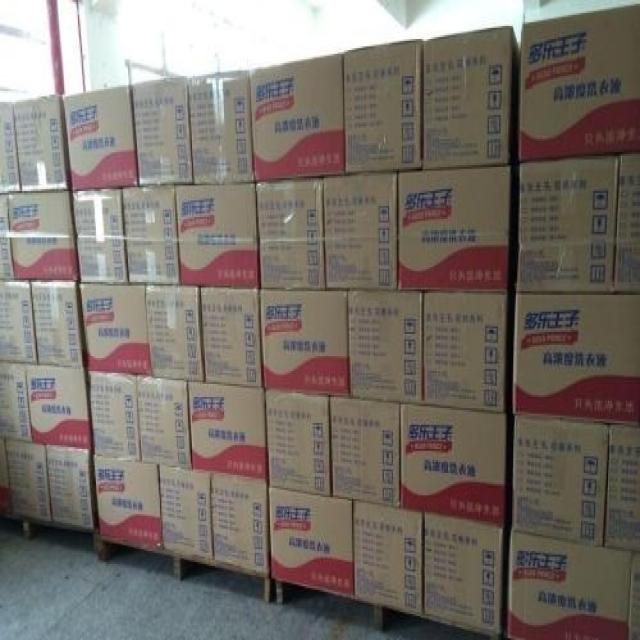box: (518, 2, 640, 161), (513, 291, 640, 427), (397, 165, 511, 295), (517, 156, 620, 295), (422, 28, 520, 171), (507, 531, 631, 640), (512, 414, 611, 549), (401, 404, 507, 527), (248, 52, 344, 184), (343, 41, 424, 174), (422, 291, 508, 412), (424, 510, 504, 638), (260, 289, 352, 399), (268, 490, 353, 599), (175, 184, 260, 289), (323, 173, 398, 289), (348, 289, 422, 404), (352, 501, 424, 616), (63, 85, 140, 191), (188, 380, 268, 482), (330, 397, 401, 510), (255, 176, 325, 289), (188, 70, 255, 186), (264, 390, 333, 501), (79, 284, 154, 378), (131, 76, 195, 186), (93, 456, 163, 551), (8, 191, 79, 284), (201, 288, 264, 390), (26, 364, 93, 451), (211, 473, 268, 575), (123, 186, 180, 286), (146, 284, 205, 380), (14, 95, 70, 193), (72, 189, 128, 284), (159, 464, 214, 560), (136, 375, 191, 469), (31, 282, 87, 367), (604, 423, 640, 555), (88, 371, 141, 460), (46, 447, 96, 531), (5, 440, 52, 523), (614, 154, 640, 295), (0, 280, 38, 364), (0, 362, 32, 445), (0, 100, 20, 195), (0, 193, 14, 280), (627, 555, 640, 640), (0, 440, 12, 514)
